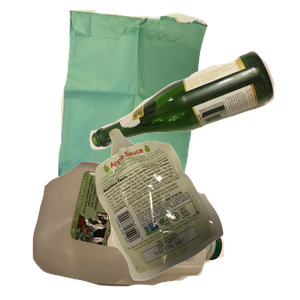glass: (87, 48, 300, 190)
paper: (55, 10, 255, 190)
plastic: (30, 159, 247, 300)
trash: (93, 126, 300, 300)
